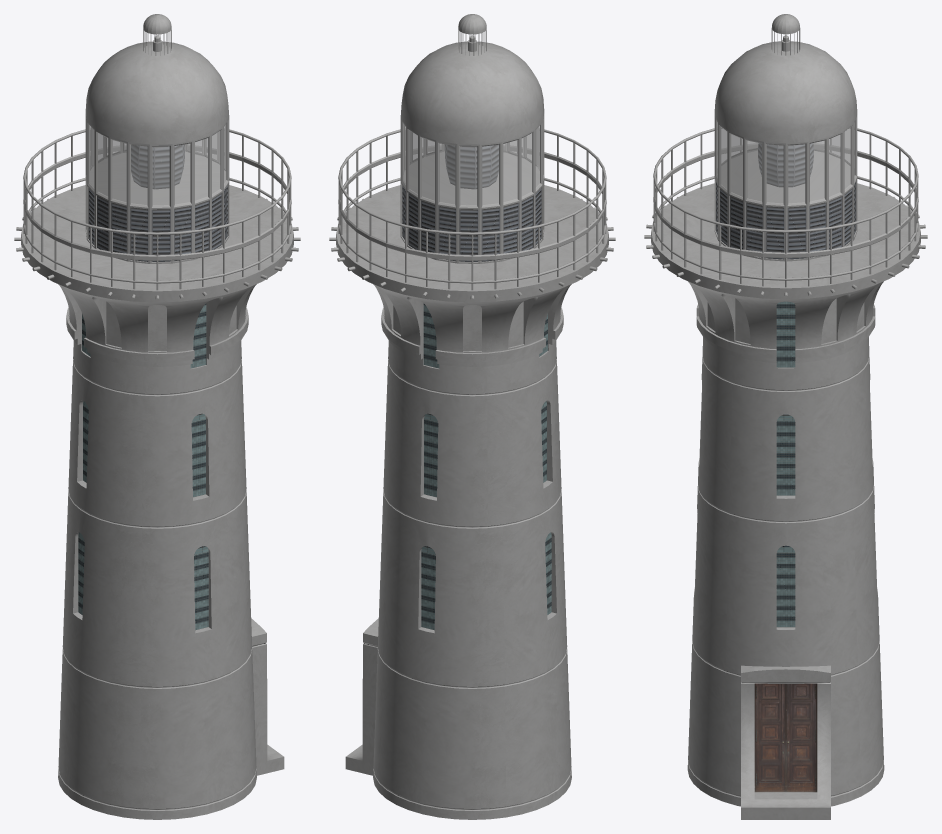
File: lighthouse.glb
The picture shows the model from 3 angles, left to right: view 1: azimuth 30°, elevation 25°; view 2: azimuth 150°, elevation 25°; view 3: azimuth 270°, elevation 25°; orthographic projection.
Visible parts, largest first — view 1: TuasLighthouse_LOD0_3, TuasLighthouseDome_0, TuasLighthouseFence_1, TuasLighthouseLight_2; view 2: TuasLighthouse_LOD0_3, TuasLighthouseDome_0, TuasLighthouseFence_1, TuasLighthouseLight_2; view 3: TuasLighthouse_LOD0_3, TuasLighthouseDome_0, TuasLighthouseFence_1, TuasLighthouseLight_2.
Boxes of the visible parts, box(x1,y1,x2,y2) form: TuasLighthouse_LOD0_3: box(21, 185, 293, 819); TuasLighthouseDome_0: box(85, 14, 229, 263); TuasLighthouseFence_1: box(14, 30, 300, 301); TuasLighthouseLight_2: box(131, 144, 184, 188); TuasLighthouse_LOD0_3: box(336, 185, 608, 819); TuasLighthouseDome_0: box(400, 14, 544, 263); TuasLighthouseFence_1: box(329, 30, 615, 301); TuasLighthouseLight_2: box(445, 144, 498, 188); TuasLighthouse_LOD0_3: box(651, 183, 920, 819); TuasLighthouseDome_0: box(714, 14, 857, 261); TuasLighthouseFence_1: box(644, 28, 927, 298); TuasLighthouseLight_2: box(758, 143, 813, 186).
Bounding box in the file's own units: 5.72 × 16.82 × 5.72.
6 materials, 5 textured.
